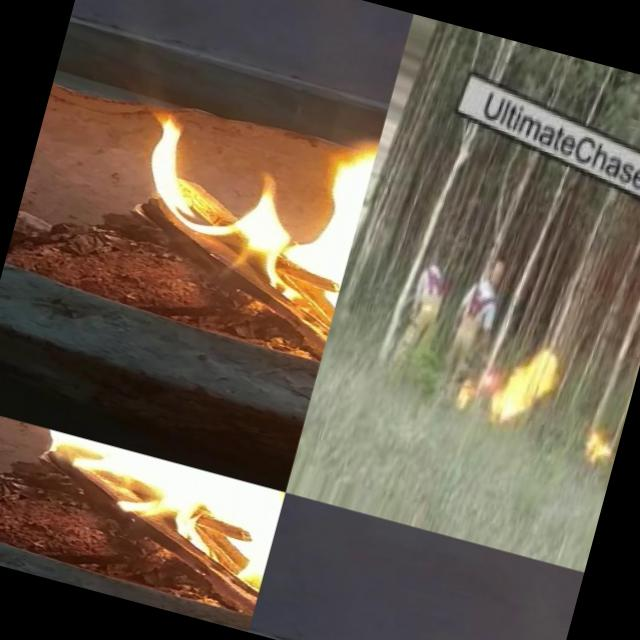fire: (73, 8, 397, 362), (1, 426, 285, 626), (482, 336, 570, 440), (378, 604, 563, 640), (576, 415, 616, 465), (449, 372, 482, 417)
